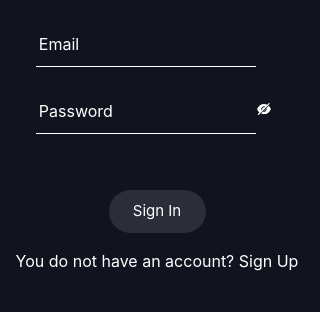
Test: Login › Ввод корректного email и некорректного пароля
Step 1. Type "test-utils@test-utils.com" into the field with test id "email-input" → (146, 50), box [36,32,256,67]
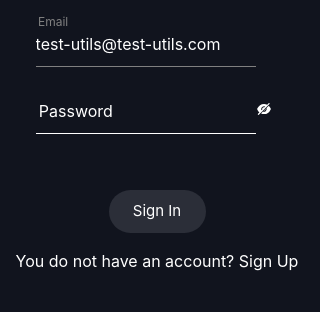
Step 2. Type "fsdf" into the password field with test id "password-input" → (146, 116), box [36,99,256,134]
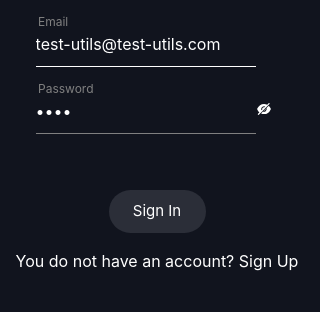
Step 3. Click the button with test id "signin-btn" → (157, 212), box [108,190,206,233]
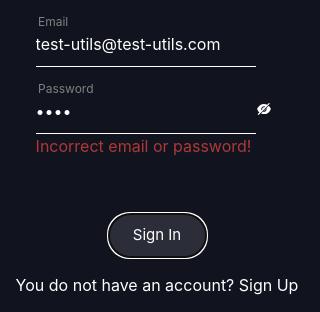
Expected: the text "Incorrect email or password!" is shown, [36,136,251,156]
